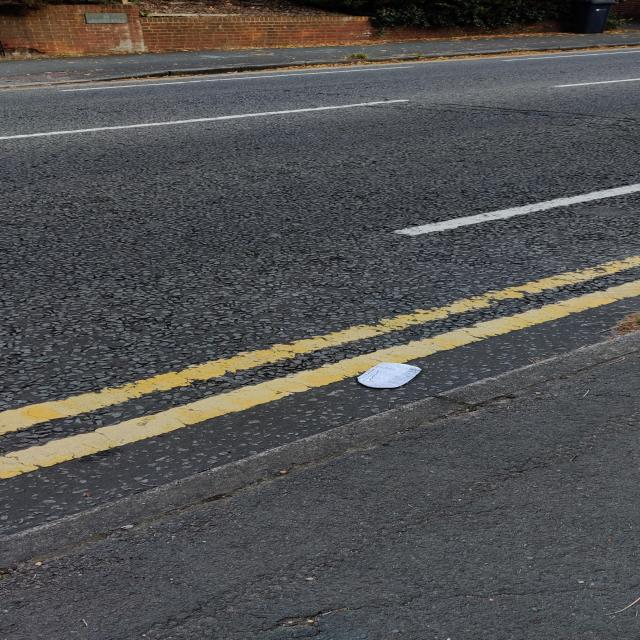litter: (345, 350, 428, 390)
